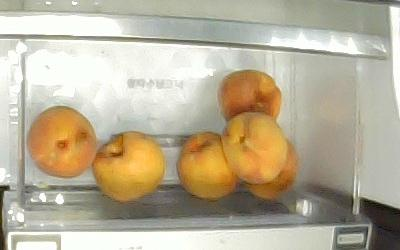peach: (90, 129, 166, 202), (25, 104, 97, 178), (220, 110, 288, 184), (174, 129, 239, 200), (215, 67, 282, 123), (242, 137, 298, 199)
